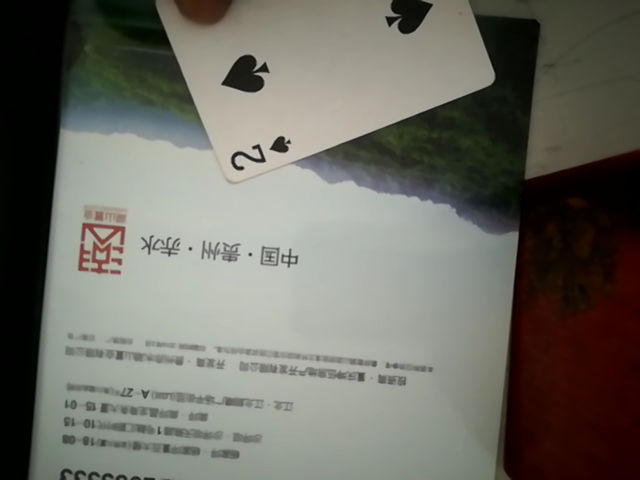ht 2: (146, 0, 494, 182)
